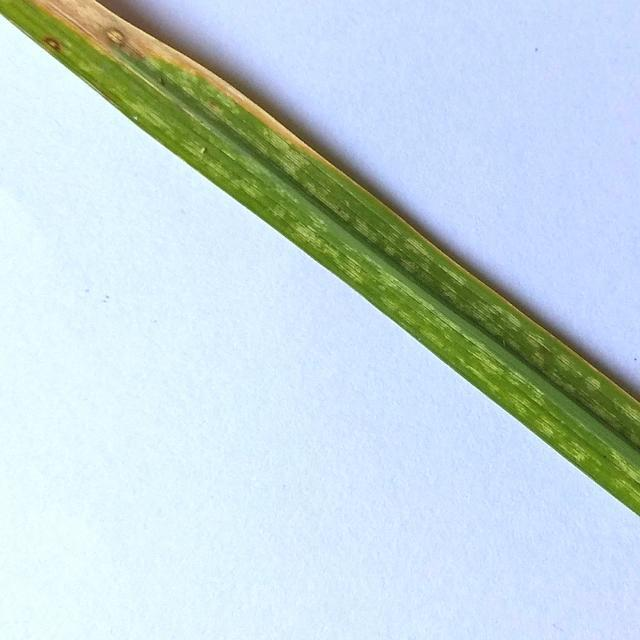Blast: (98, 25, 127, 45), (41, 38, 68, 49)
